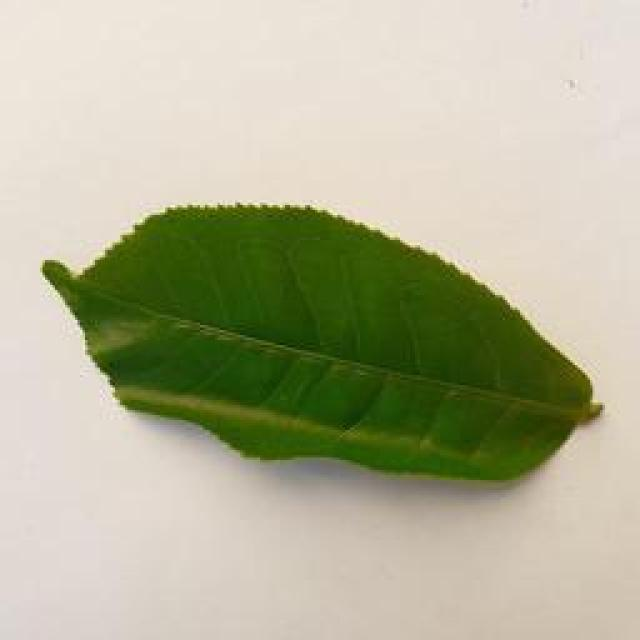Healthy: (40, 199, 603, 479)
